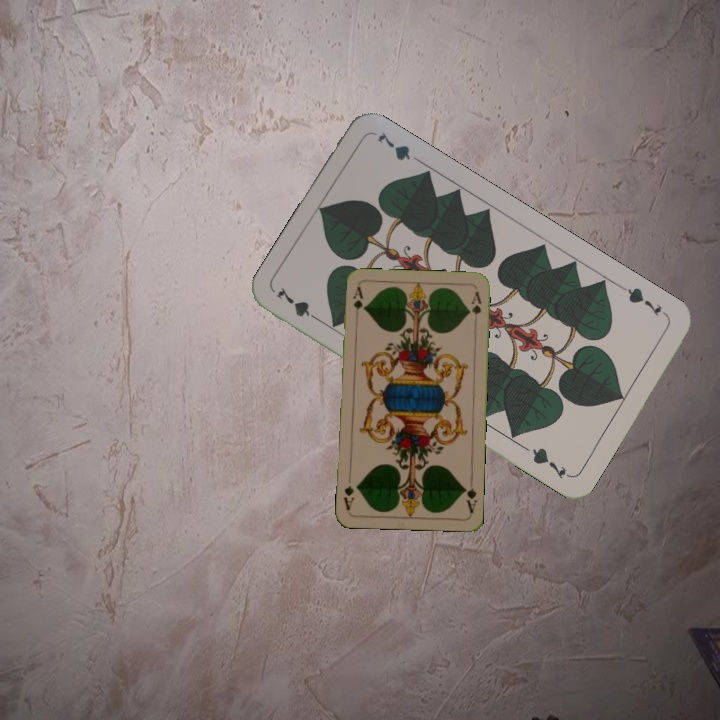G7: (272, 283, 325, 326), (618, 282, 670, 320)
GA: (460, 475, 479, 515), (349, 283, 365, 312)
